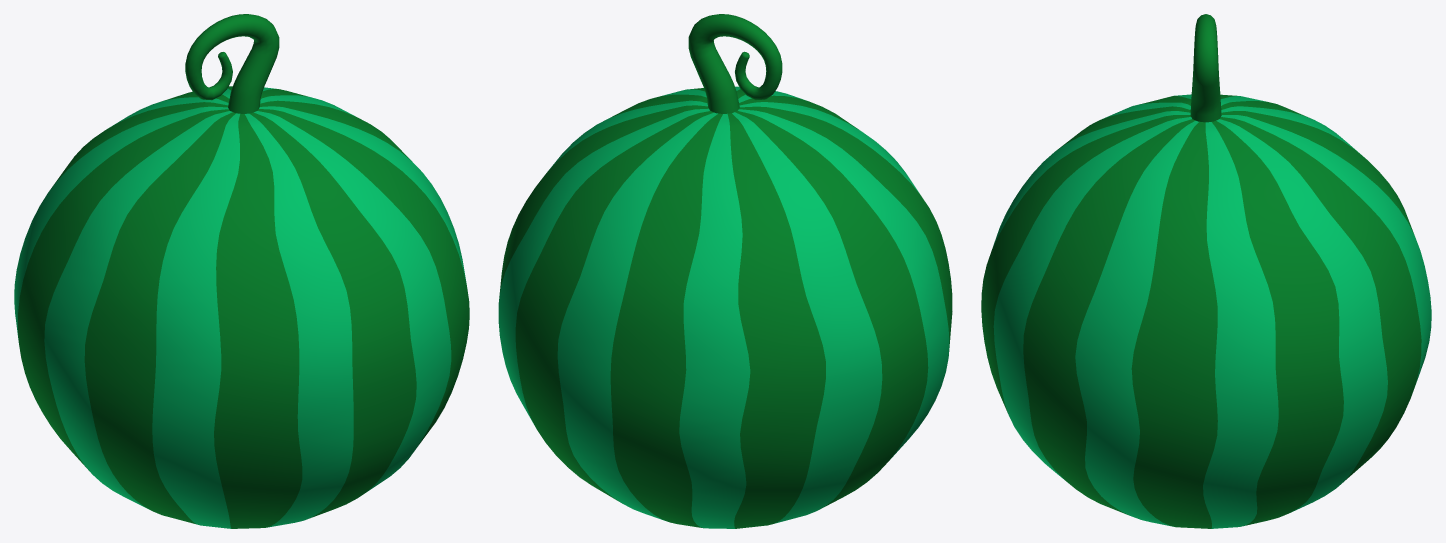
The model's file is Store_19_Watermelon_1.glb.
3 renders of one model, left to right at view 1: azimuth 30°, elevation 25°; view 2: azimuth 150°, elevation 25°; view 3: azimuth 270°, elevation 25°, orthographic.
Parts seen in each view (by area): view 1: Store_19_Watermelon_1; view 2: Store_19_Watermelon_1; view 3: Store_19_Watermelon_1.
Boxes of the visible parts, <box> form: Store_19_Watermelon_1: <box>14,14,469,528</box>; Store_19_Watermelon_1: <box>498,14,952,528</box>; Store_19_Watermelon_1: <box>981,14,1431,528</box>.
Bounding box in the file's own units: 0.8115 × 0.9647 × 0.8127.
1 material, 1 textured.
